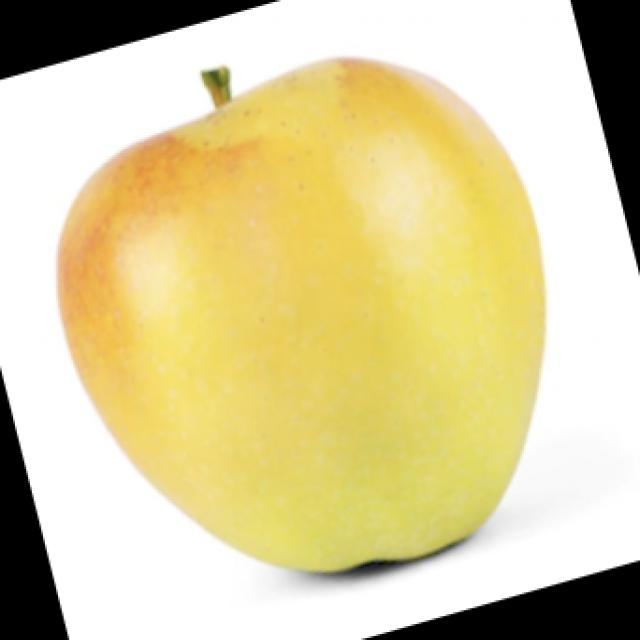Fresh Apple: (82, 65, 548, 577)
